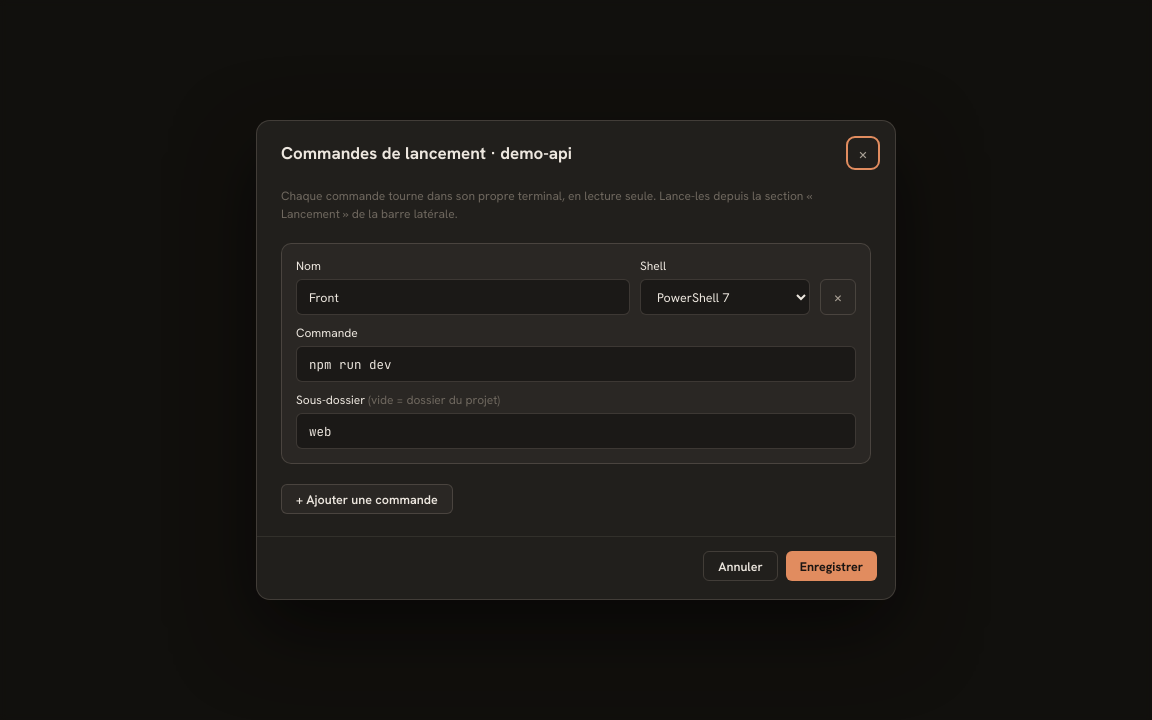
Test: RunConfigModal › needs a name and a command line for each command
The width and height of the screenshot is (1152, 720).
Clear the field labelled "Commande": point(576, 364) [296, 346, 856, 382]
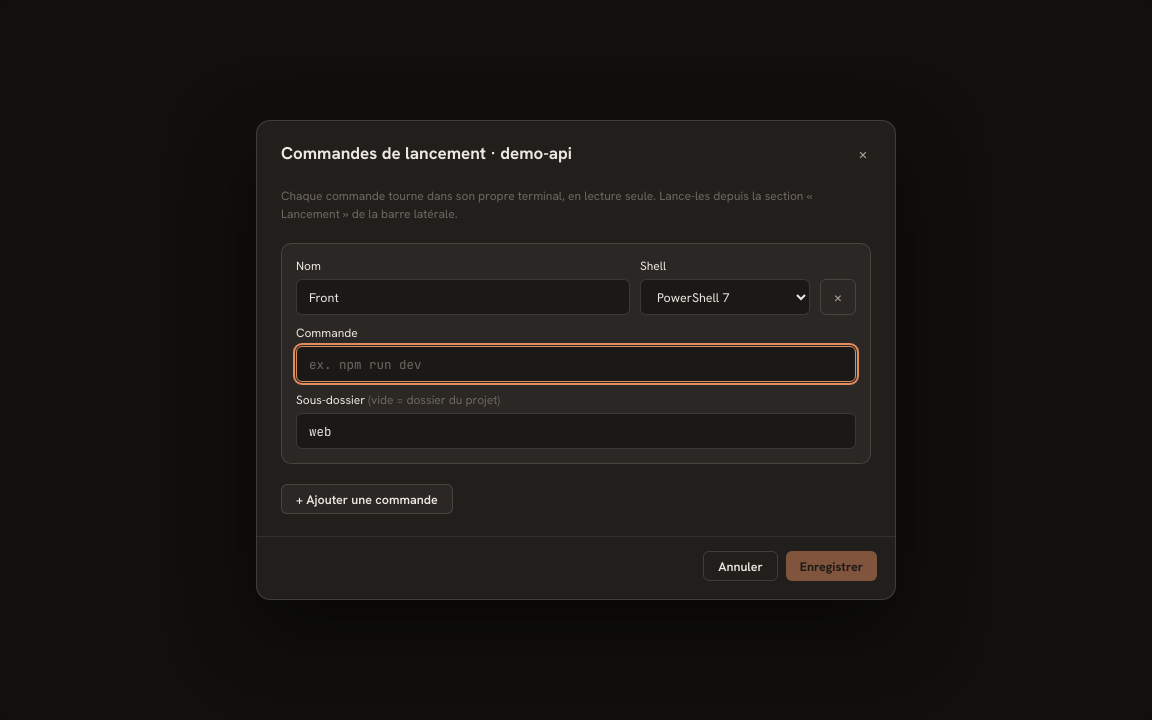
Result: the button "Enregistrer" is disabled at [786, 551, 877, 581]
